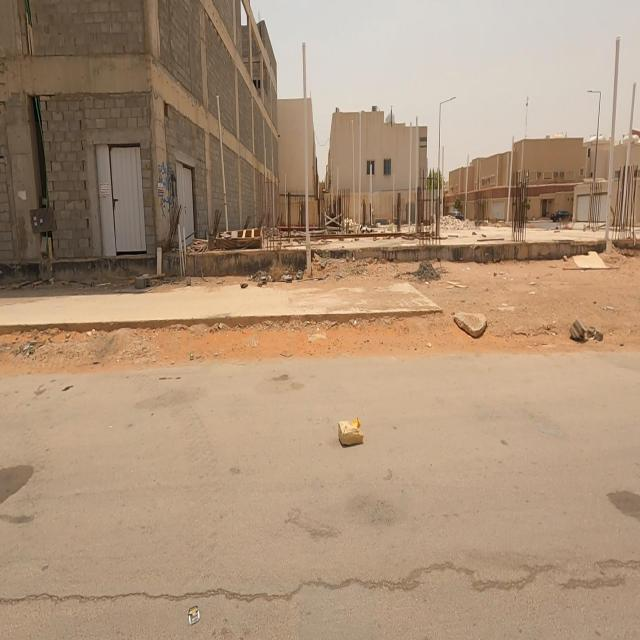Graffiti: (158, 163, 178, 219)
